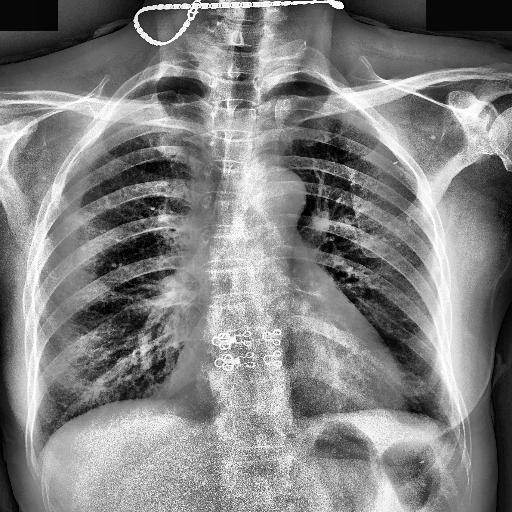0- Aortic enlargement: (234, 162, 308, 230)
3- Cardiomegaly: (165, 355, 411, 442), (168, 324, 404, 406)
8- Nodule-Mass: (378, 210, 412, 248)
9- Other lesion: (378, 210, 412, 248)
